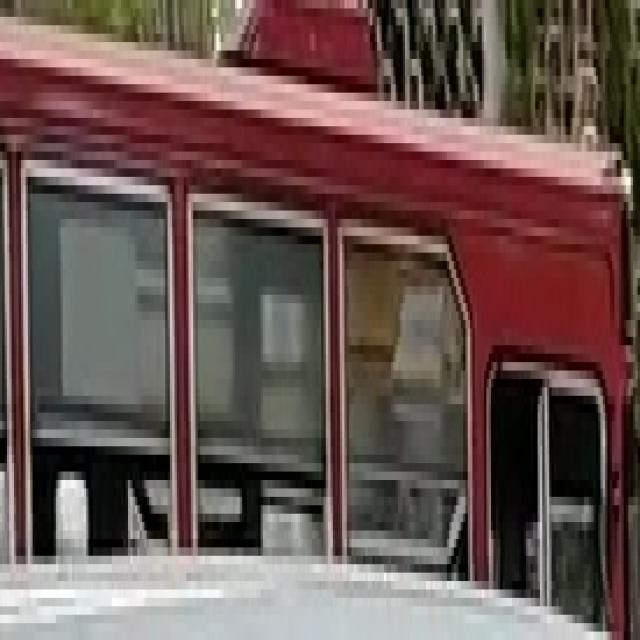door: (186, 185, 331, 548)
tyre: (0, 0, 638, 632)
